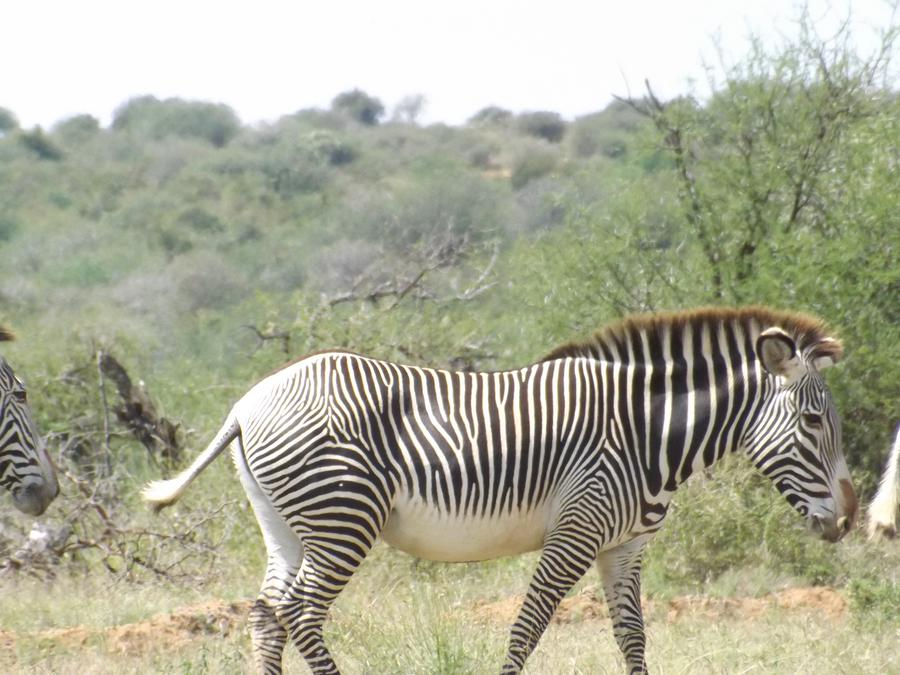zebra_grevys: (211, 336, 639, 552)
